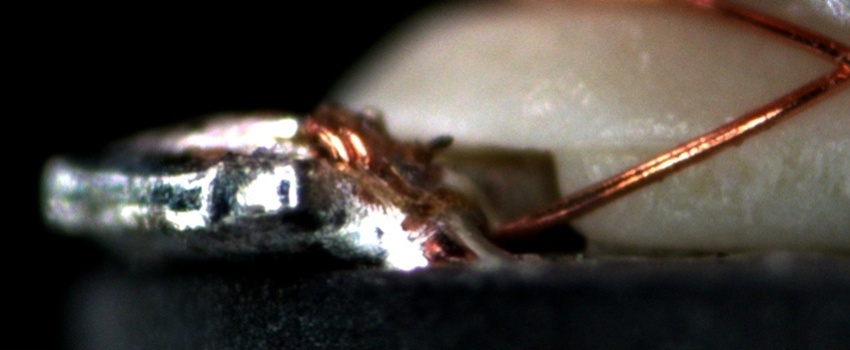CL: (813, 37, 847, 89)
DL: (578, 108, 708, 163)
TE: (310, 105, 392, 167)
